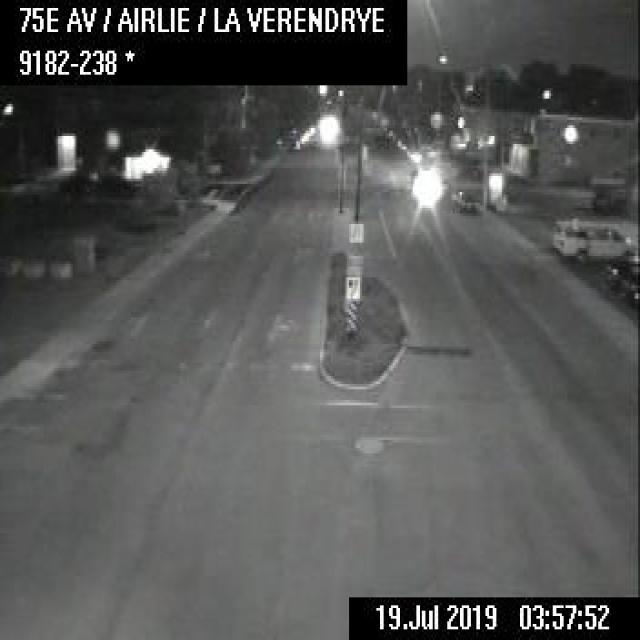vehicle: (550, 214, 636, 260), (450, 186, 480, 212)
